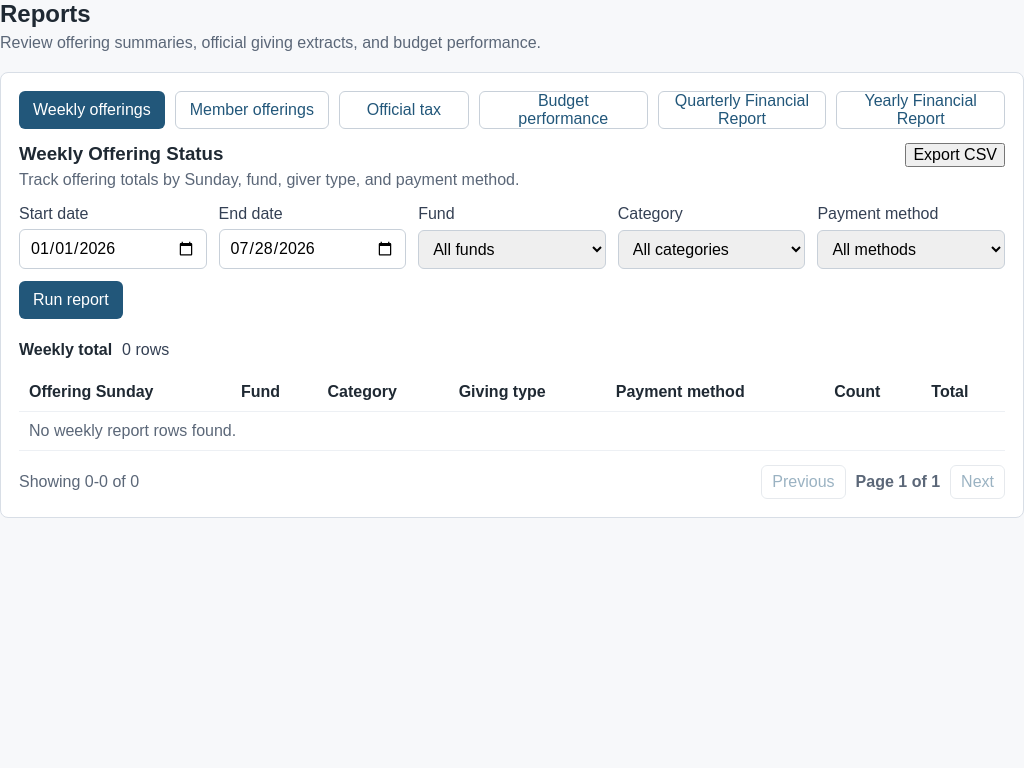
Test case: ReportsView › keeps the dialog open and clears the password after a closing failure
Click the tab "Yearly Financial Report". click: (921, 110)
box: top-left (836, 91), bottom-right (1005, 129)
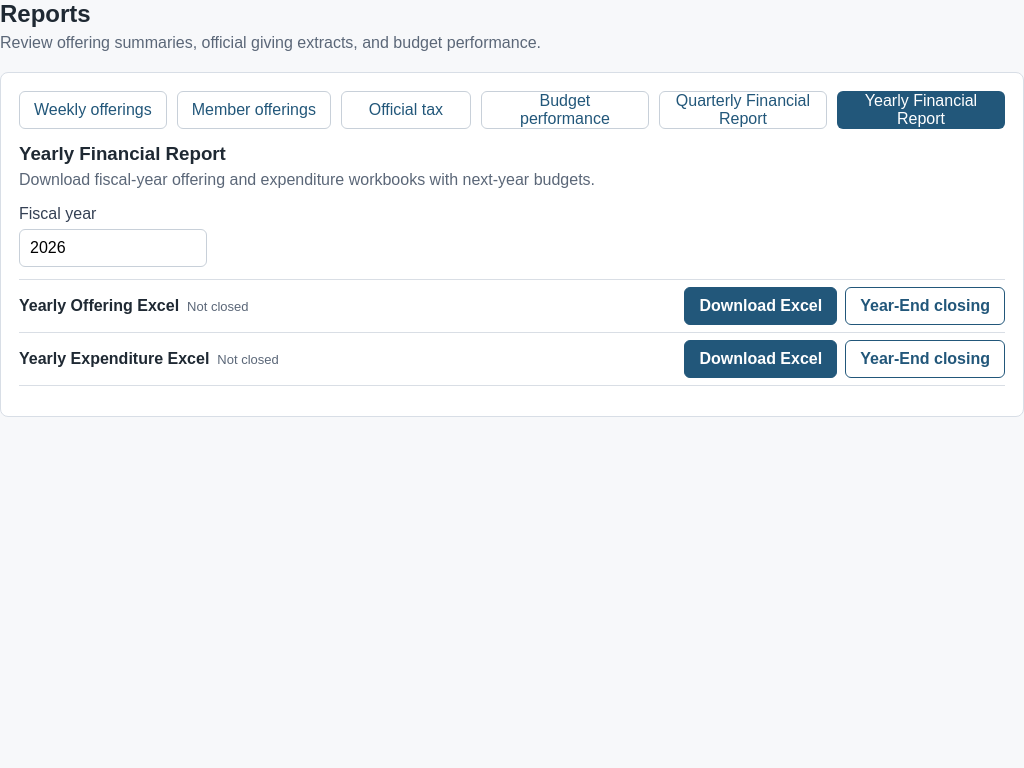
Replace the text in the number field labelled "Fiscal year" with "2025". click: (113, 248)
box: top-left (19, 229), bottom-right (207, 267)
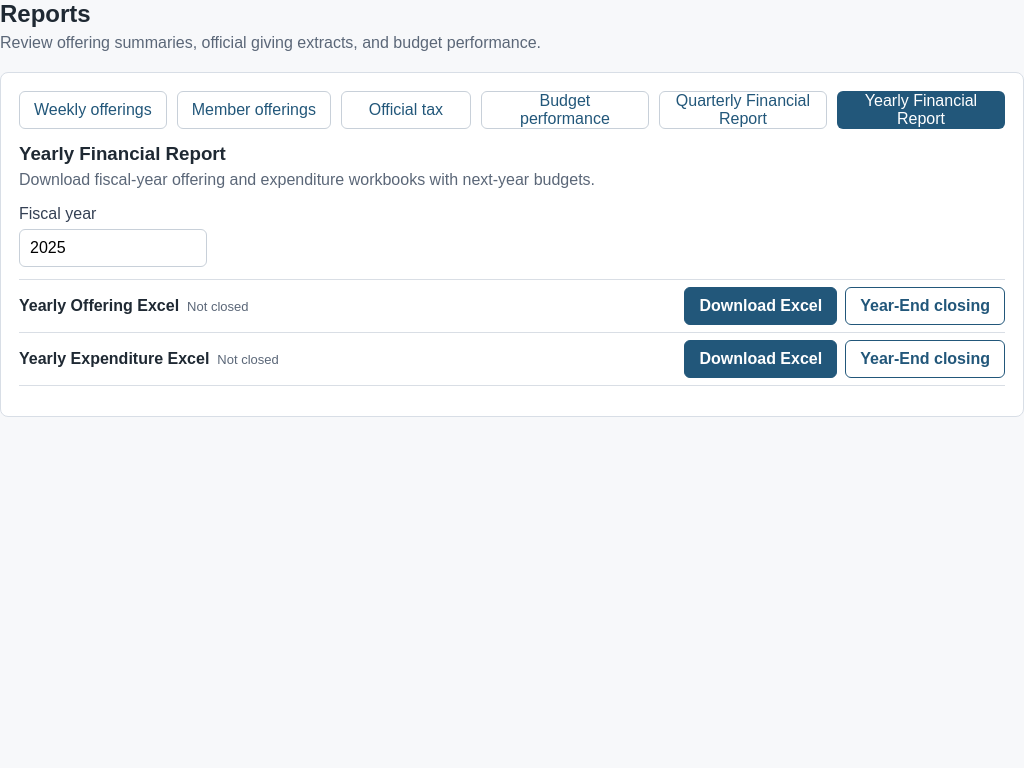
Click the button with aria-label "year-end close offering". click: (925, 306)
box: top-left (845, 287), bottom-right (1005, 325)
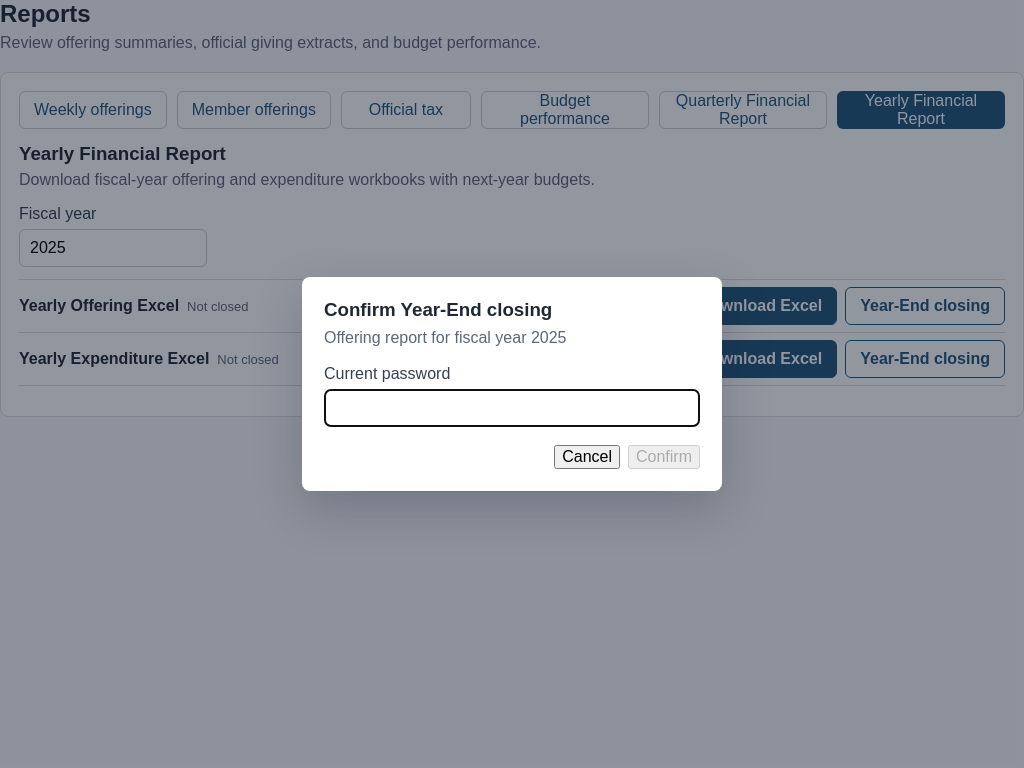
Type "wrong" into the password field labelled "Current password". click: (512, 408)
box: top-left (324, 389), bottom-right (700, 427)
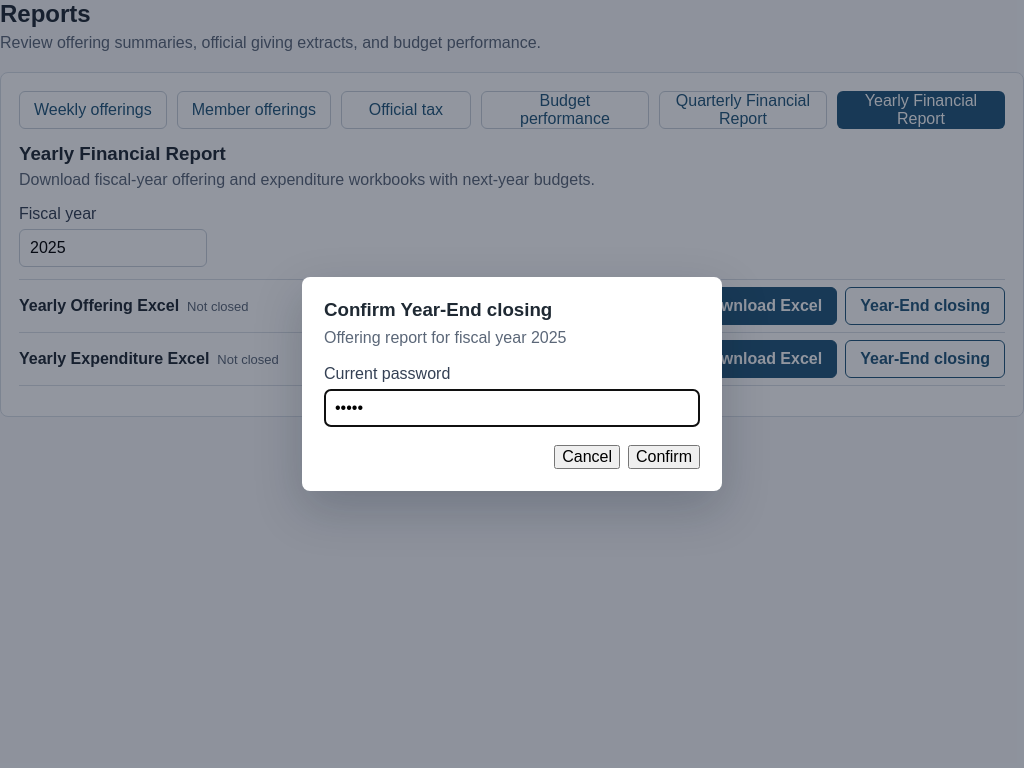
Click the button "Confirm". click: (664, 457)
box: top-left (628, 445), bottom-right (700, 469)
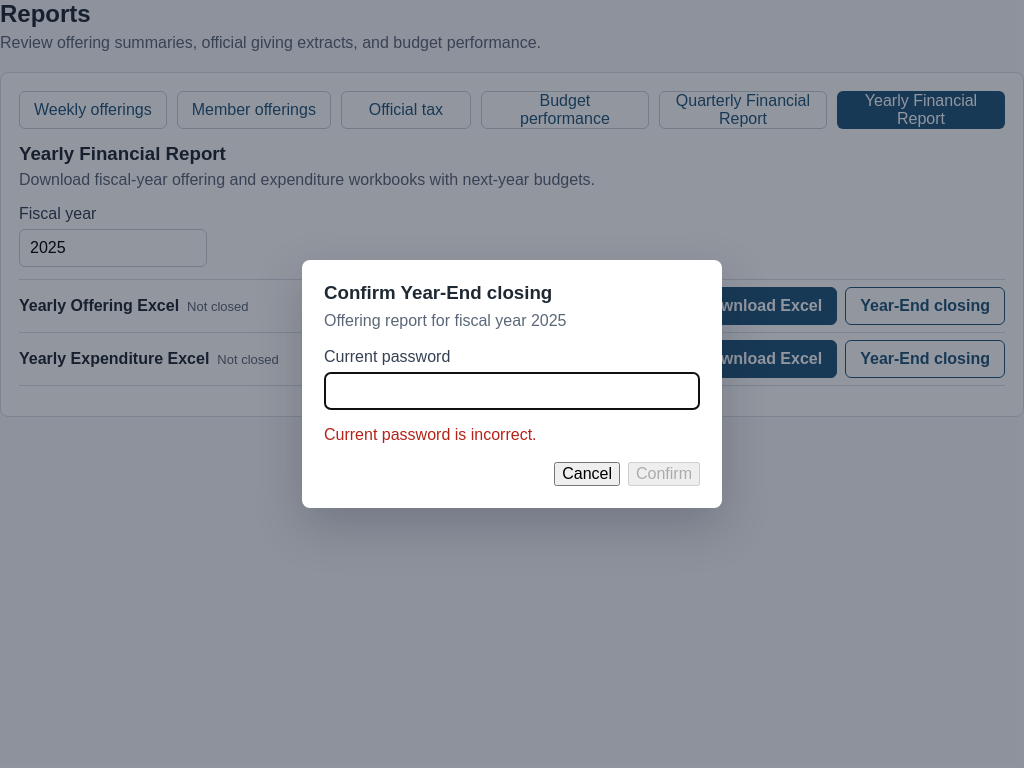
Expected: the dialog is shown, top-left (302, 260), bottom-right (722, 508)
Expected: the password field labelled "Current password" is empty, top-left (324, 372), bottom-right (700, 410)
Expected: the message reads "Current password is incorrect.", top-left (324, 426), bottom-right (536, 443)
